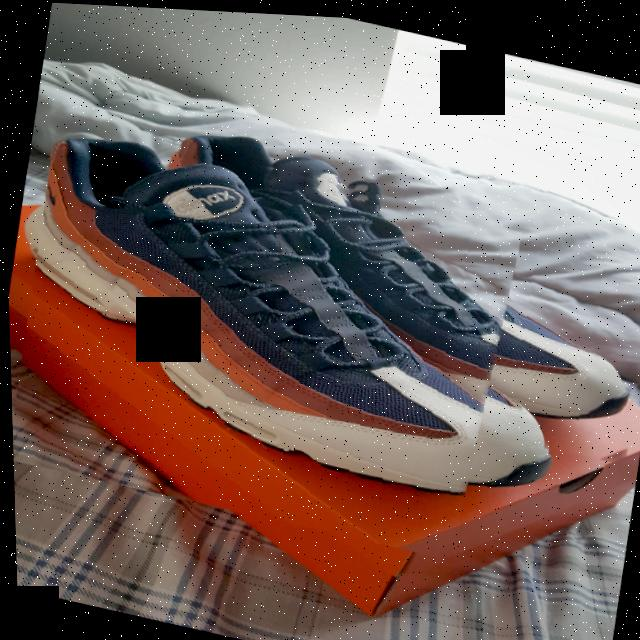shoe: (3, 109, 531, 562), (265, 69, 640, 465)
